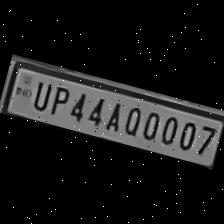0: (155, 110, 182, 148), (136, 106, 163, 143), (174, 116, 200, 152)
4: (64, 86, 92, 124), (82, 91, 108, 128)
7: (192, 120, 218, 158)
A: (100, 96, 127, 134)
P: (44, 81, 72, 118)
Q: (118, 101, 146, 138)
U: (25, 76, 53, 113)
